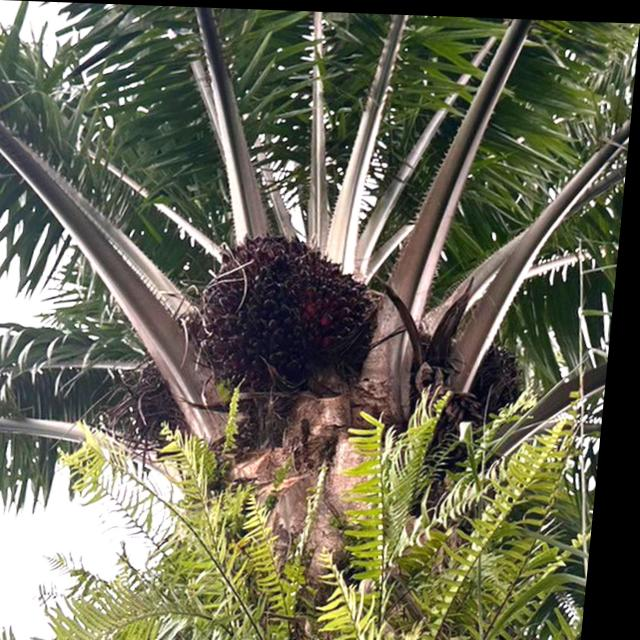ripe: (176, 211, 406, 404)
